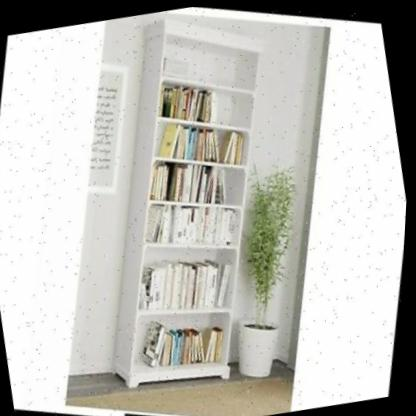Shelf: (36, 2, 339, 416)
